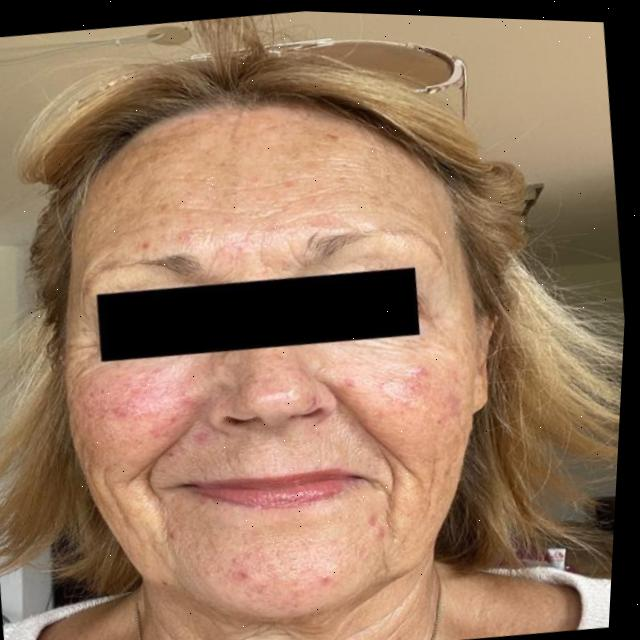Rosacea: (158, 497, 396, 613), (319, 340, 477, 457), (76, 362, 200, 457)
